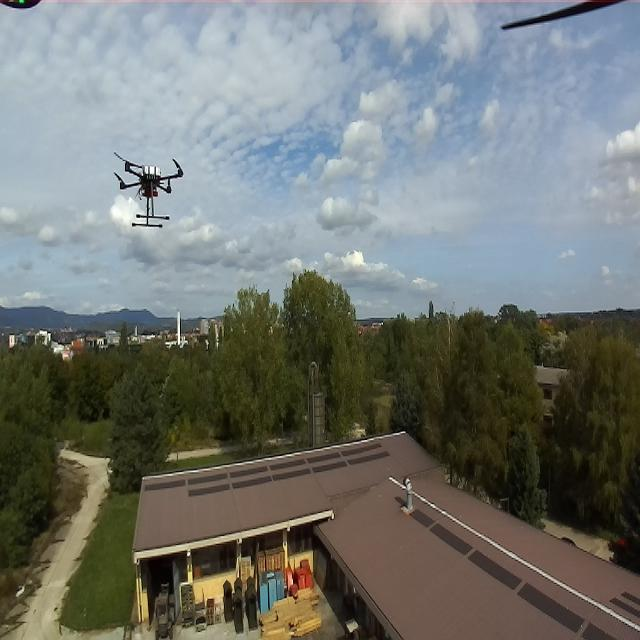UAV: (112, 144, 183, 234)
